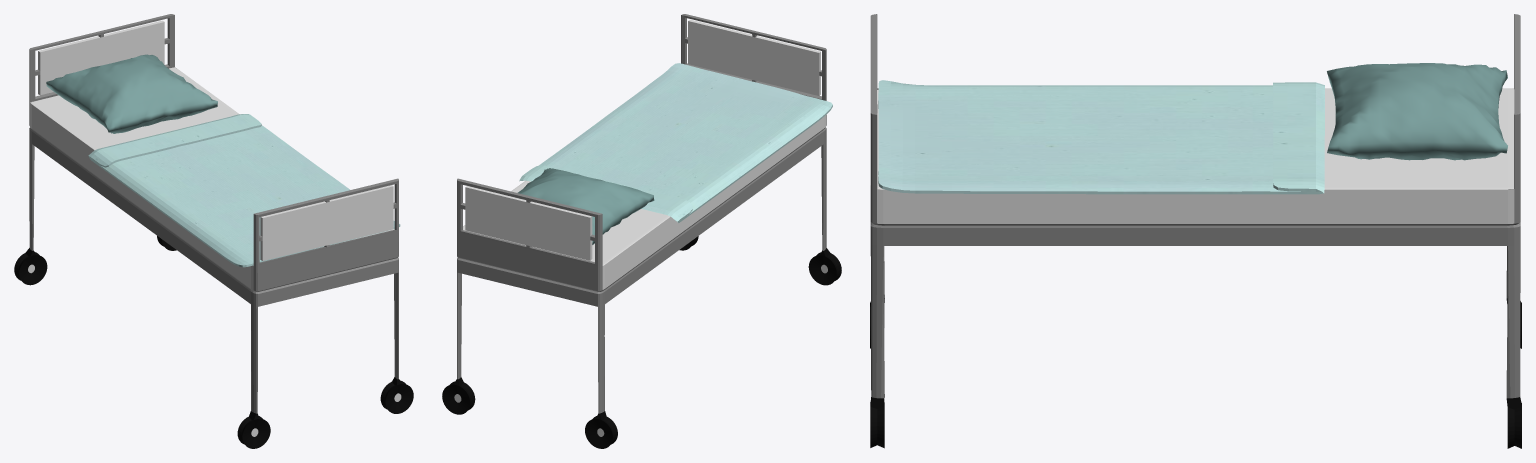
The model's file is hospitalbed.fbx.
The picture shows the model from 3 angles, left to right: view 1: azimuth 30°, elevation 25°; view 2: azimuth 150°, elevation 25°; view 3: azimuth 270°, elevation 25°; orthographic projection. The views are drawn at different scales.
Parts seen in each view (by area): view 1: bed, blanket, pillow; view 2: bed, blanket, pillow; view 3: bed, blanket, pillow.
Part boxes in pixels (<box>): bed: <box>14,14,413,448</box>; blanket: <box>88,114,400,267</box>; pillow: <box>46,54,217,133</box>; bed: <box>442,14,841,448</box>; blanket: <box>519,63,832,222</box>; pillow: <box>517,168,654,244</box>; bed: <box>870,14,1521,448</box>; blanket: <box>878,80,1324,194</box>; pillow: <box>1327,63,1507,160</box>.
Bounding box in the file's own units: 91.53 × 119 × 212.
